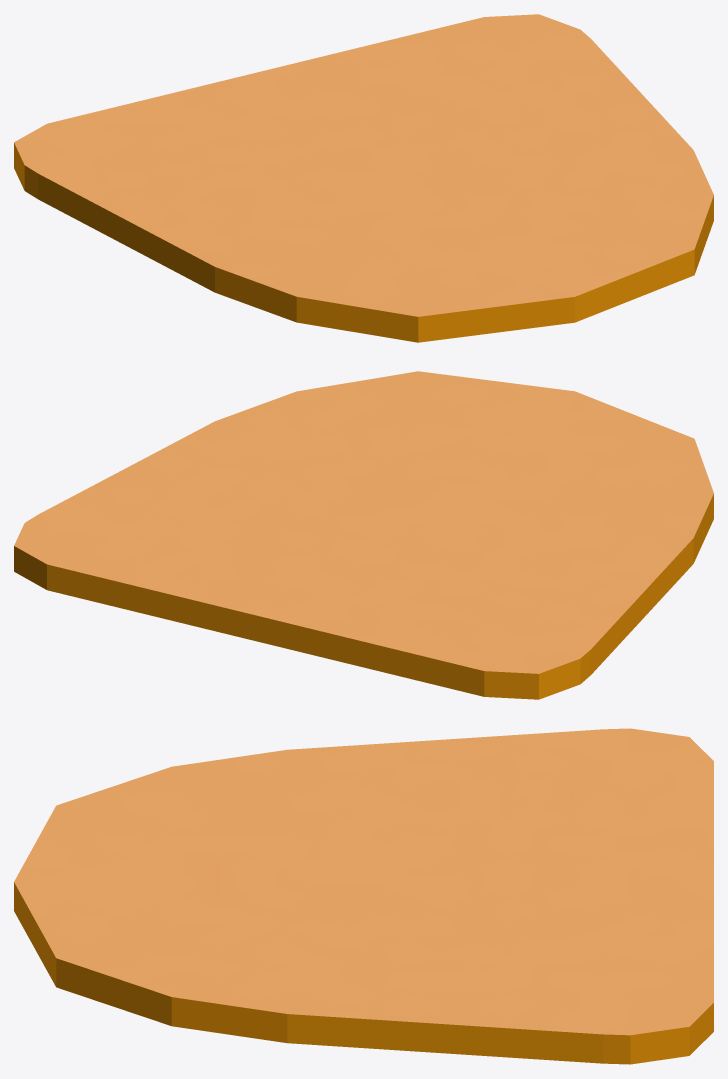
The model's file is Slice_Of_Bread.fbx.
The picture shows the model from 3 angles, top to bottom: view 1: azimuth 30°, elevation 25°; view 2: azimuth 150°, elevation 25°; view 3: azimuth 270°, elevation 25°; orthographic projection. The views are drawn at different scales.
Visible parts, largest first — view 1: Slice Of Bread; view 2: Slice Of Bread; view 3: Slice Of Bread.
Boxes of the visible parts, x1,y1,x2,y2 form: Slice Of Bread: (14,14,713,342); Slice Of Bread: (14,371,713,699); Slice Of Bread: (14,728,713,1064).
Bounding box in the file's own units: 8.33 × 0.37 × 8.04.
